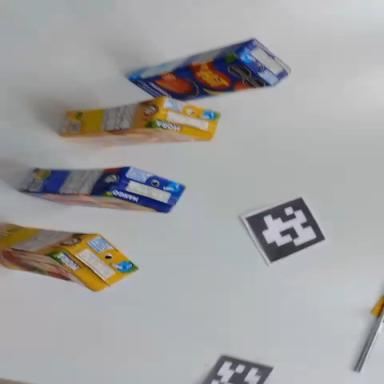HIT-MANGO: (124, 33, 292, 110), (19, 164, 185, 213)
HIT-MORA: (0, 223, 140, 296), (58, 93, 221, 148)
cara_F: (129, 50, 272, 110), (0, 249, 98, 292), (65, 125, 206, 148), (23, 192, 164, 213)
